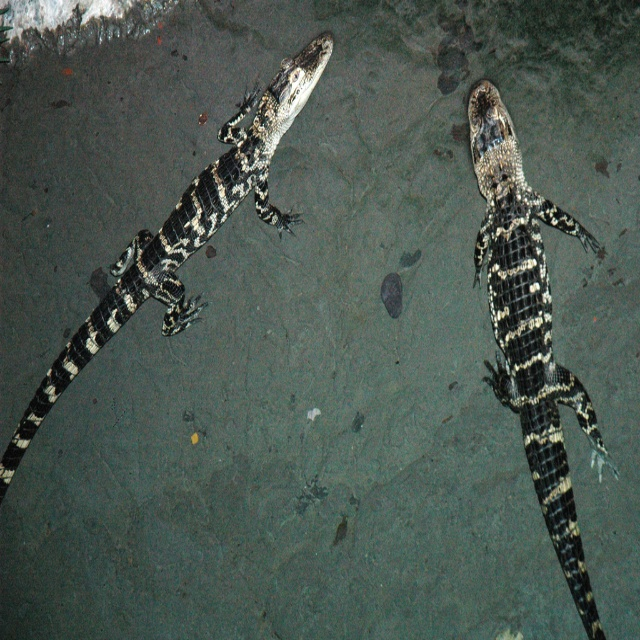Lizard: (0, 15, 355, 542), (482, 77, 620, 639)
